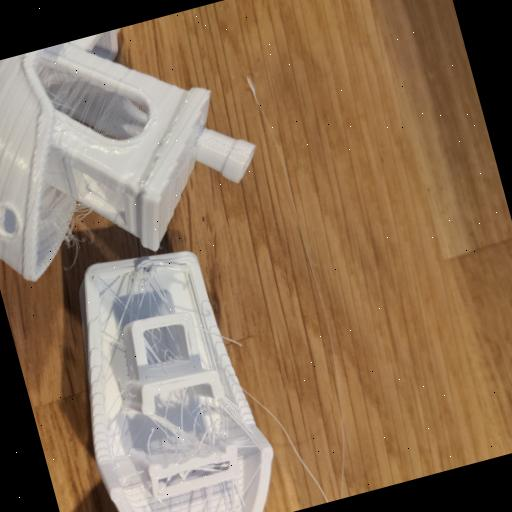stringing: (50, 52, 146, 148), (142, 372, 230, 468), (98, 259, 173, 331)
